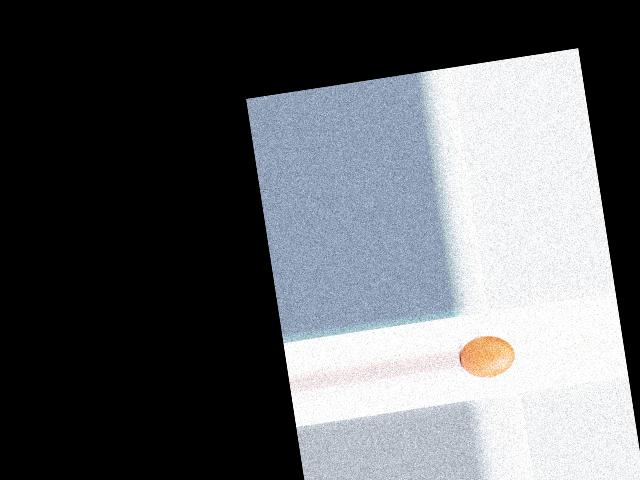egg: (457, 331, 516, 380)
